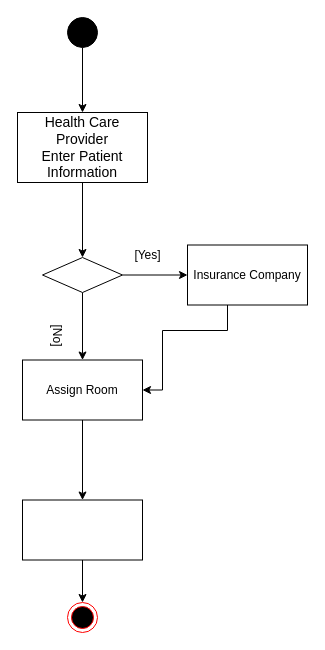
Some shapes in this 325 by 650 pixel diagram are drawn without their labels. Each missing label, with the centre of its shape:
"Has insutrance" belongs at (x=82, y=274).
"Print Admission" belongs at (x=82, y=529).
